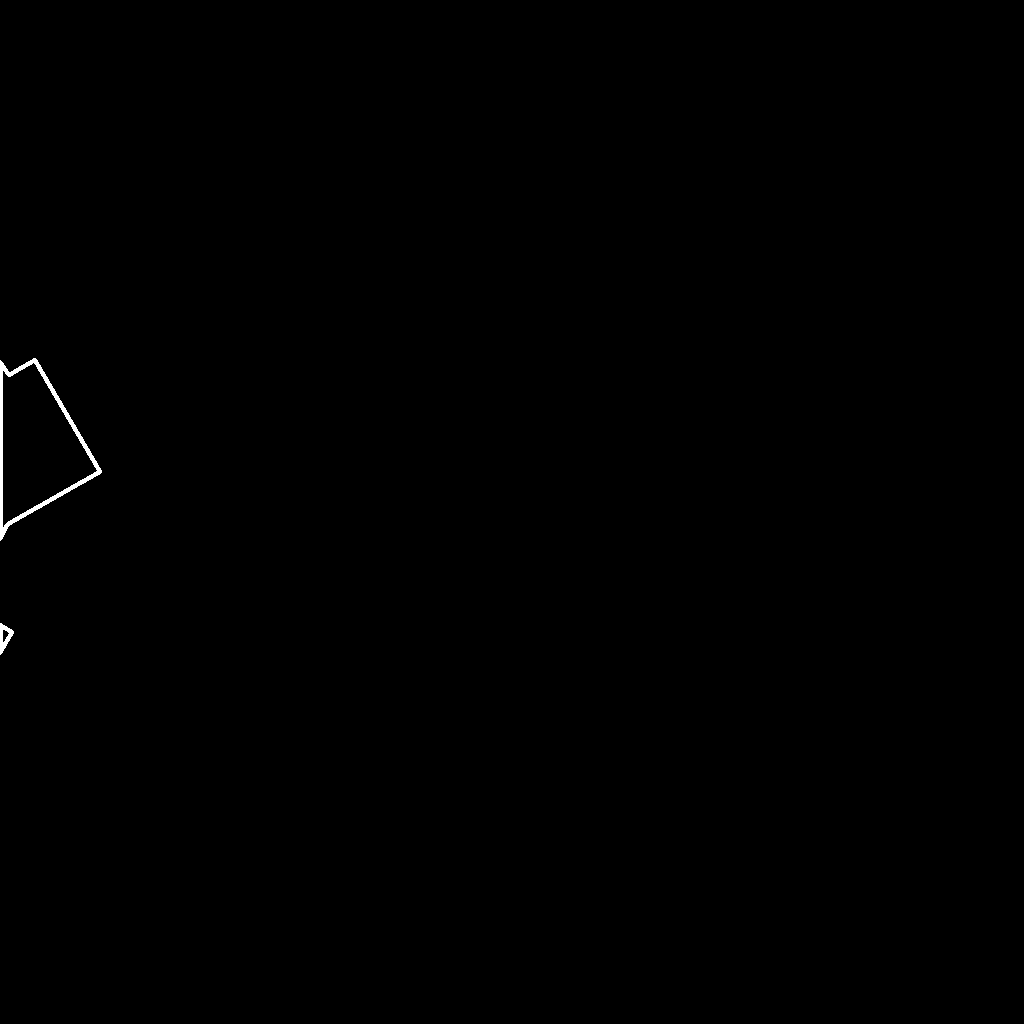building: (0, 360, 101, 654)
